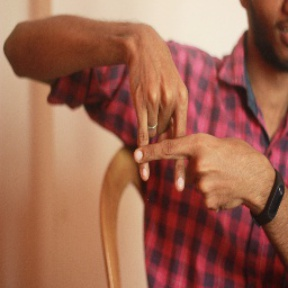H: (116, 84, 212, 204)
